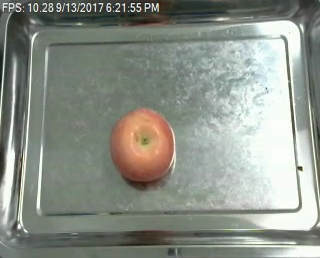Apple: (107, 104, 175, 187)
